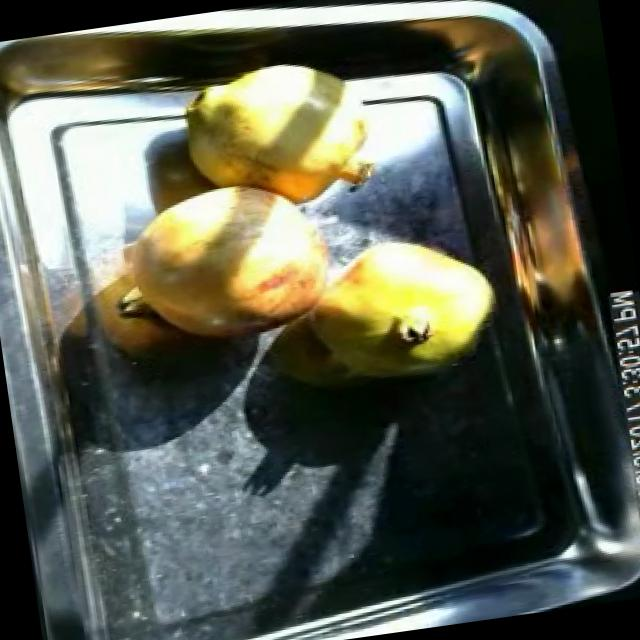fruit: (88, 164, 349, 366), (163, 49, 389, 232), (290, 221, 512, 394)
